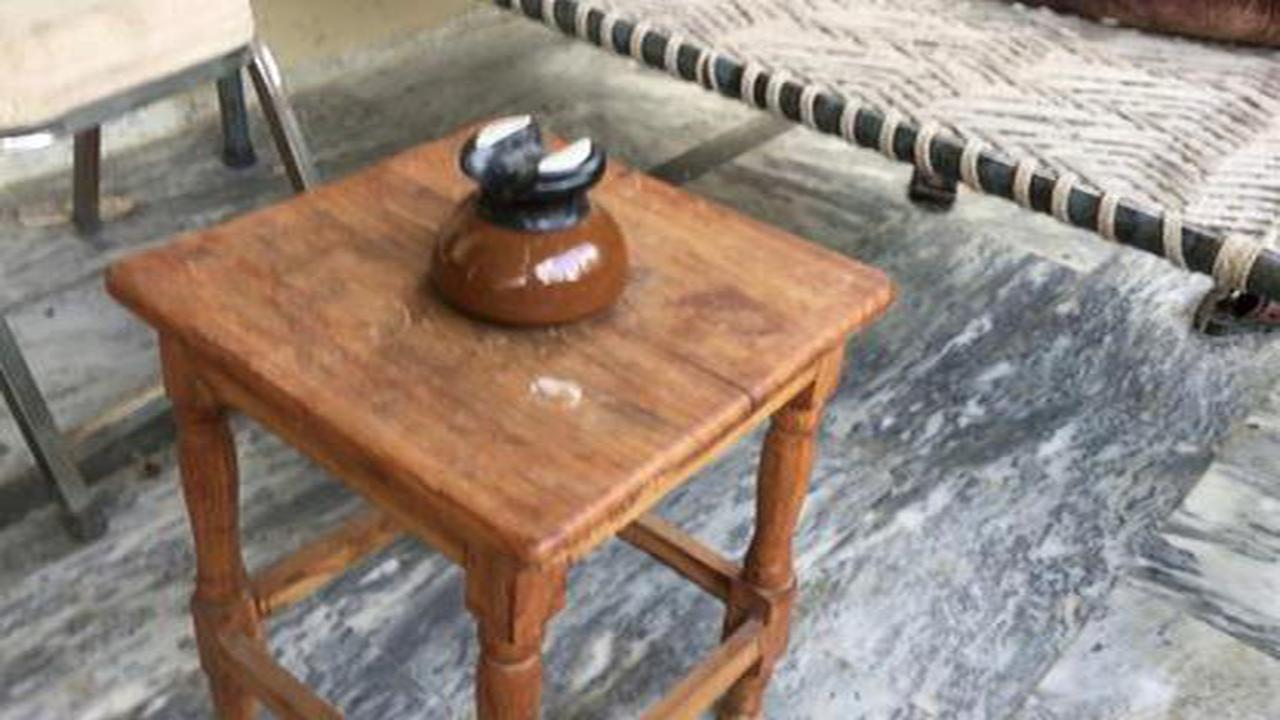insulator_pin: (407, 94, 644, 338)
